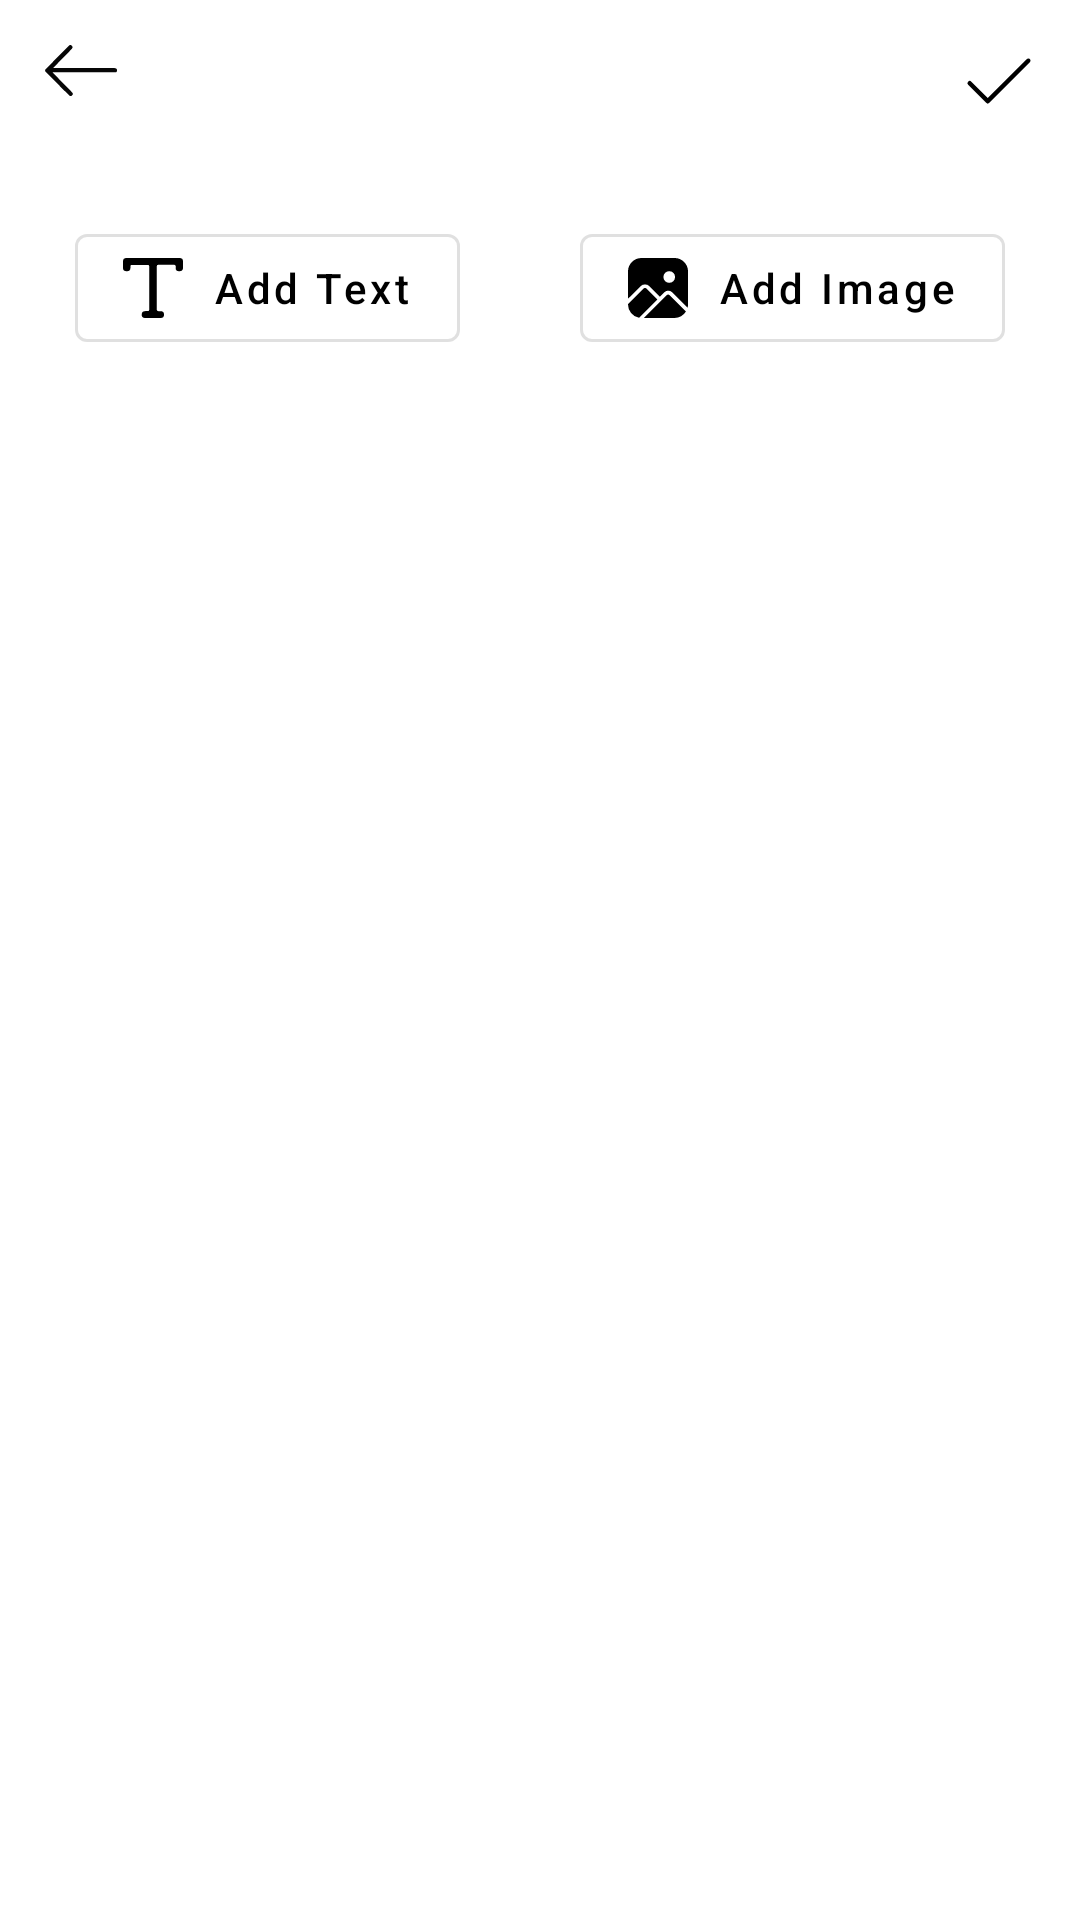

Icon bounding boxes for this 1080x1920 phone screenshot, format (x1, y1, x2, y2):
back arrow: (45, 45, 117, 96)
checkmark: (967, 58, 1031, 104)
